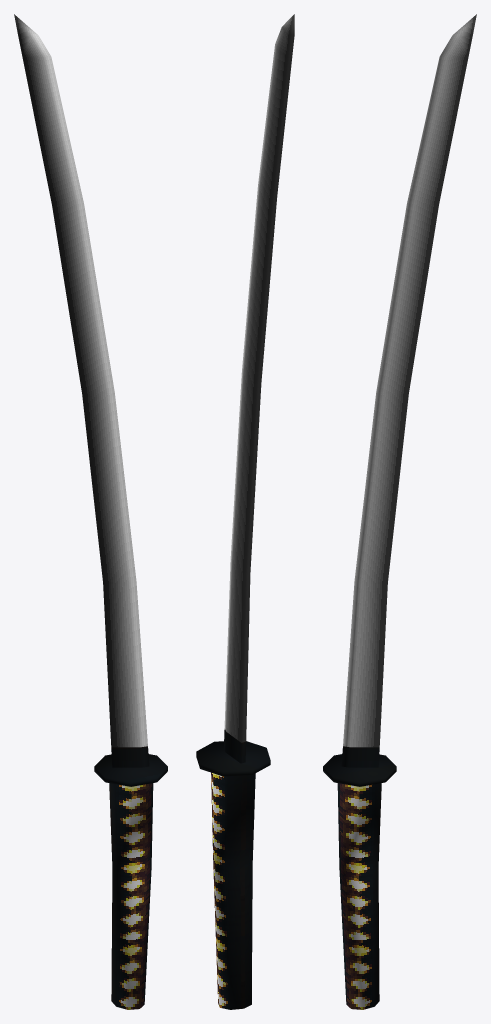
File: sword.fbx
3 renders of one model, left to right at view 1: azimuth 90°, elevation 25°; view 2: azimuth 210°, elevation 25°; view 3: azimuth 270°, elevation 25°, orthographic. The views are drawn at different scales.
Visible parts, largest first — view 1: Plane; view 2: Plane; view 3: Plane.
Part boxes in pixels (left/top/right/bottom): Plane: left=14, top=14, right=167, bottom=1009; Plane: left=196, top=14, right=294, bottom=1009; Plane: left=323, top=14, right=476, bottom=1009.
Size of the model in its own units: 0.2766 by 4.12 by 0.5783.
1 material, 1 textured.
